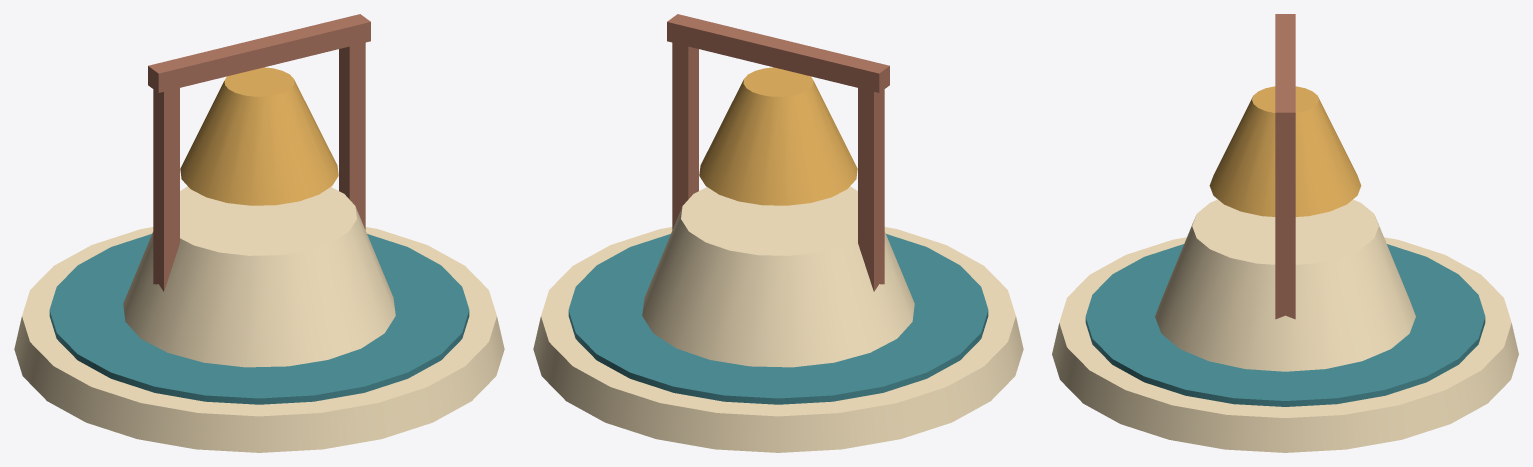
File: prop-square-bell.glb
3 views of the same model, side by side, from view 1: azimuth 30°, elevation 25°; view 2: azimuth 150°, elevation 25°; view 3: azimuth 270°, elevation 25° (orthographic). The views are drawn at different scales.
Parts seen in each view (by area): view 1: bell; view 2: bell; view 3: bell.
Part boxes in pixels (left/top/right/bottom): bell: left=14, top=14, right=504, bottom=452; bell: left=533, top=14, right=1023, bottom=452; bell: left=1052, top=14, right=1518, bottom=452.
Bounding box in the file's own units: 3.2 × 2.2 × 3.2.
